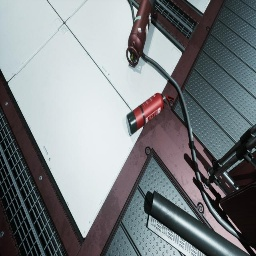FireExtinguisher ]: (126, 93, 174, 135)
NitrogenTank ,: (126, 0, 156, 66)
